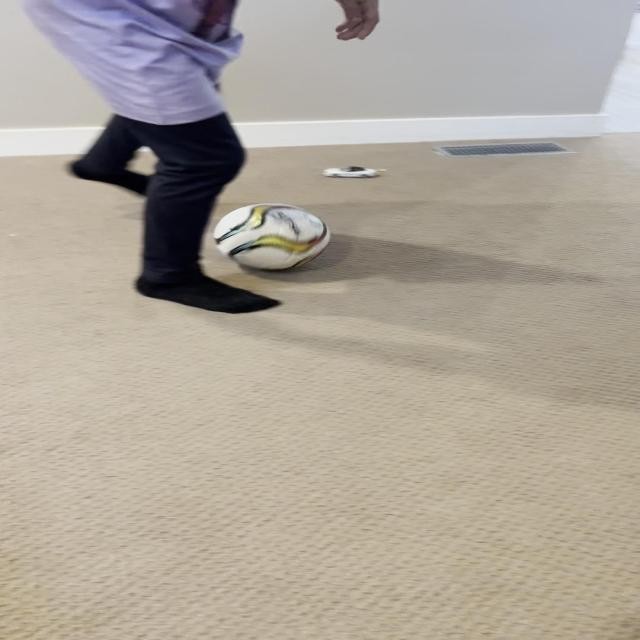Soccer Ball: (213, 203, 330, 270)
